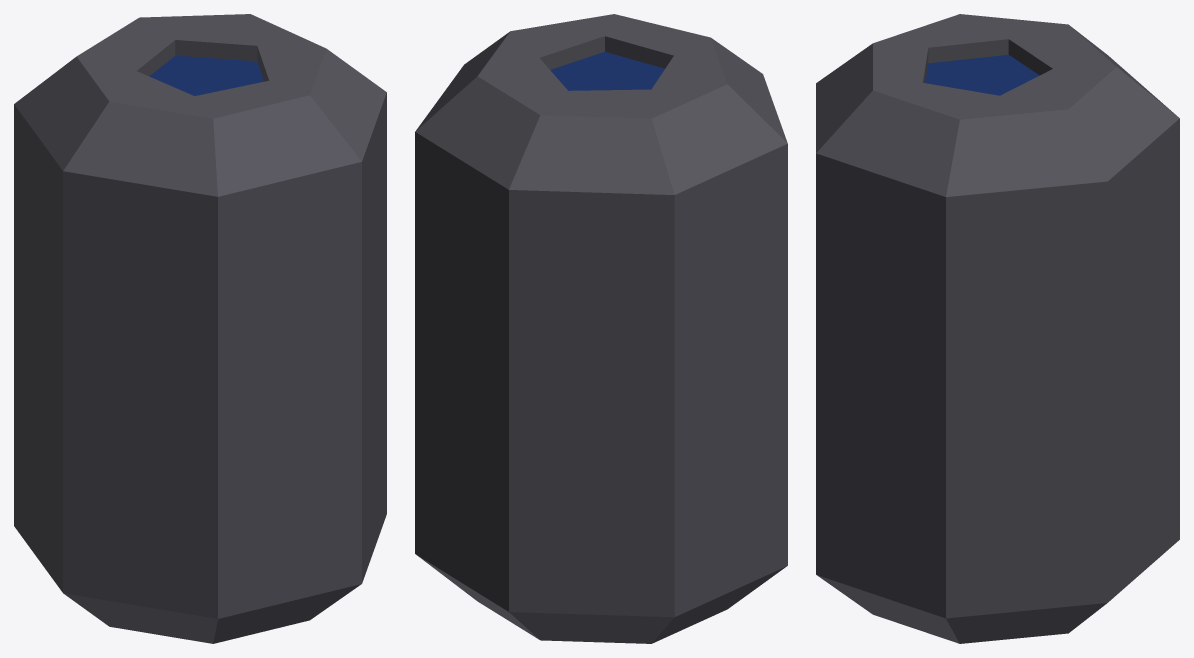
The model's file is LPSciFiCharacter_BarrelB.fbx.
3 renders of one model, left to right at view 1: azimuth 30°, elevation 25°; view 2: azimuth 150°, elevation 25°; view 3: azimuth 270°, elevation 25°, orthographic.
Visible parts, largest first — view 1: BarrelB; view 2: BarrelB; view 3: BarrelB.
Boxes of the visible parts, x1,y1,x2,y2 form: BarrelB: (14,14,386,643); BarrelB: (415,14,787,643); BarrelB: (816,14,1179,643).
Bounding box in the file's own units: 26.29 × 40.76 × 25.63.
